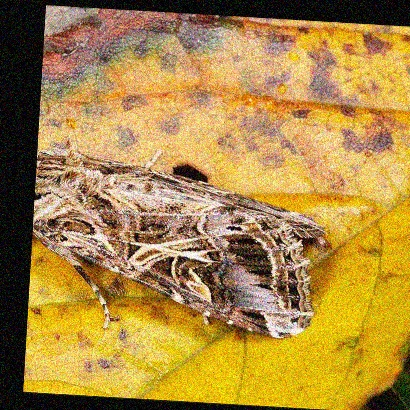Spodoptera litura: (33, 146, 329, 333)
